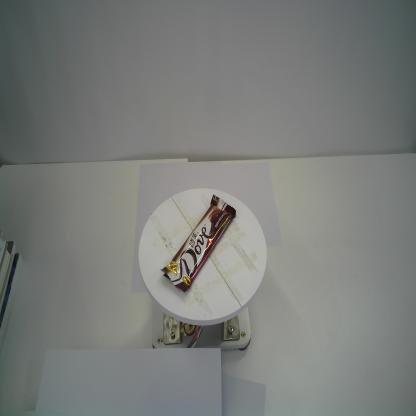Chocolate: (161, 194, 236, 293)
